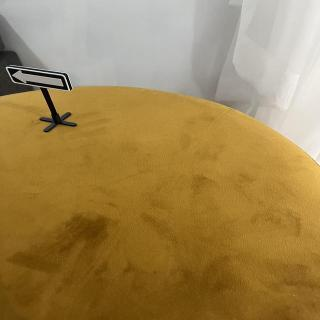sign_oneway_left: (5, 65, 75, 94)
